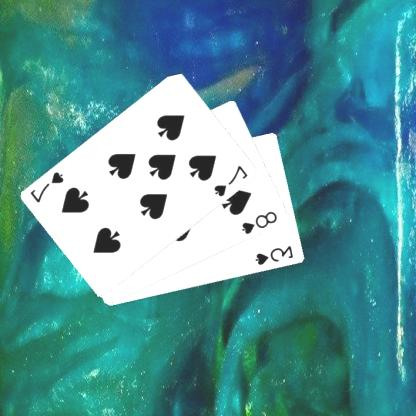3S: (254, 243, 297, 267)
7S: (30, 168, 68, 204), (214, 163, 251, 198)
8S: (241, 209, 281, 236)
